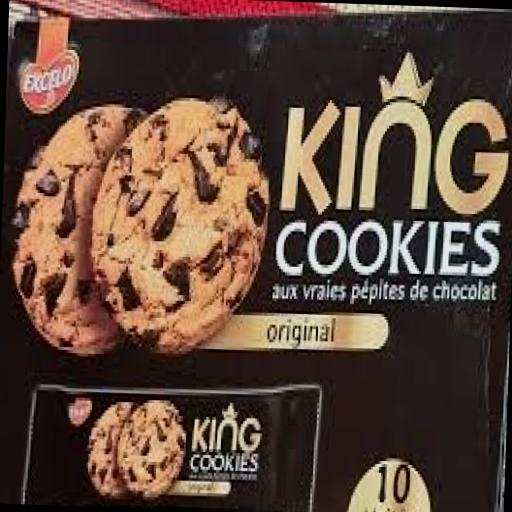king-cooking: (0, 341, 347, 512)
